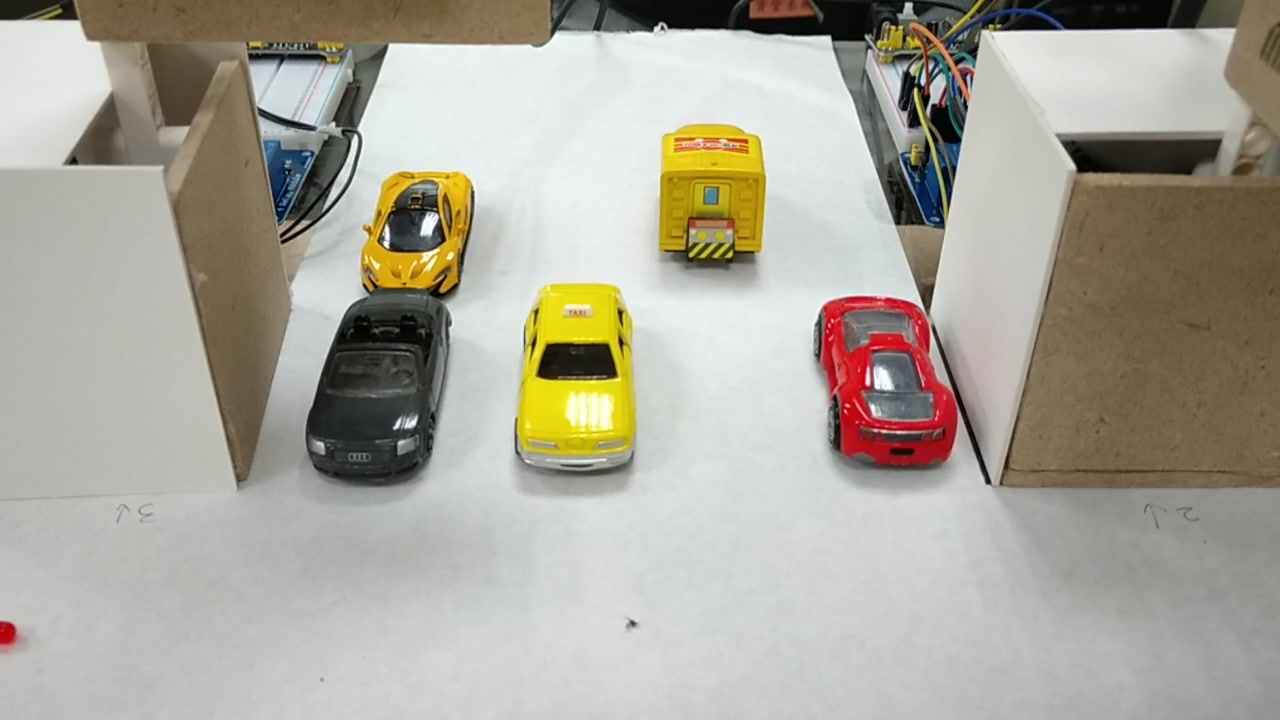car: (305, 292, 450, 481), (815, 297, 956, 464), (521, 282, 631, 467), (368, 164, 477, 286)
